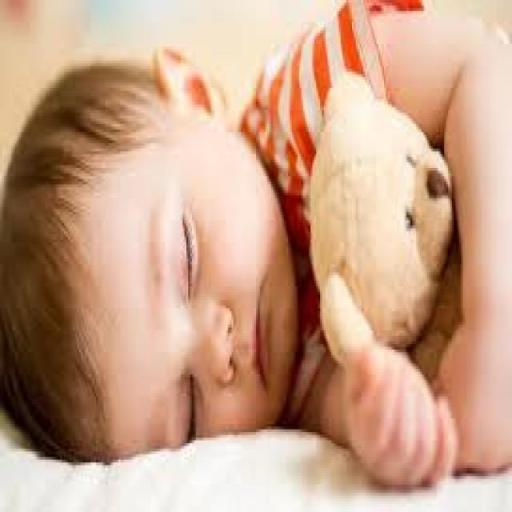baby: (0, 0, 511, 486)
